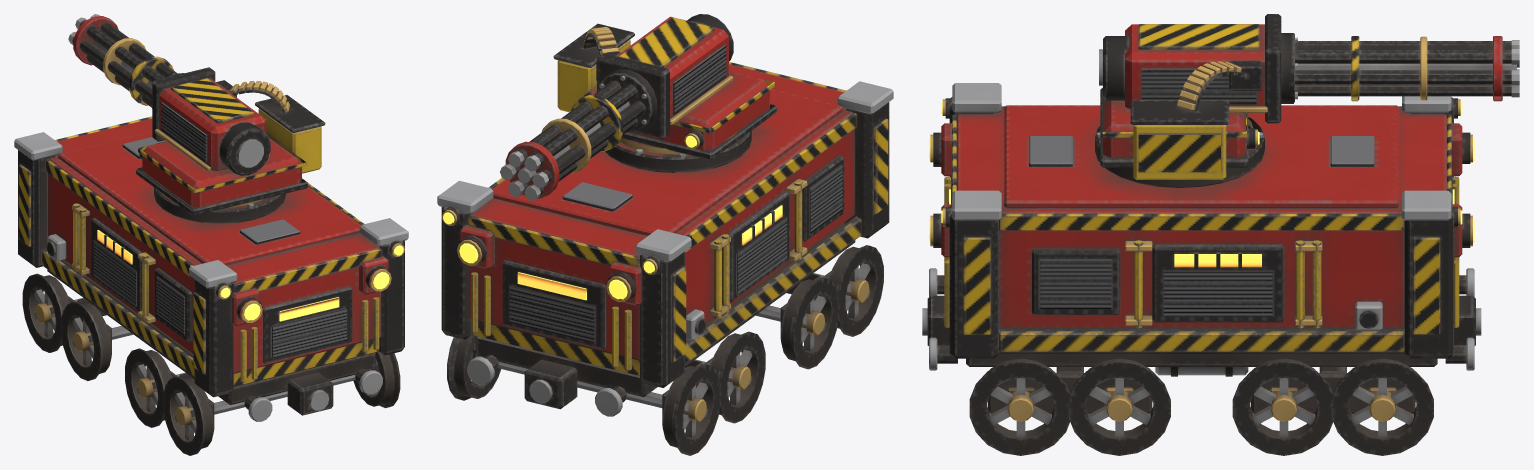
File: SM_DRL_GatlingCar.fbx
3 views of the same model, side by side, from view 1: azimuth 30°, elevation 25°; view 2: azimuth 150°, elevation 25°; view 3: azimuth 270°, elevation 25° (orthographic). The views are drawn at different scales.
Visible parts, largest first — view 1: Body, Turret, Axle_4, Cannon, Axle_2, Axle_3, Axle_1; view 2: Body, Turret, Cannon, Axle_1, Axle_3, Axle_2, Axle_4; view 3: Body, Turret, Cannon, Axle_1, Axle_3, Axle_4, Axle_2.
Boxes of the visible parts, x1,y1,x2,y2 form: Body: (14,116,408,429); Turret: (136,67,325,223); Axle_4: (163,351,400,455); Cannon: (68,14,183,108); Axle_2: (61,301,133,380); Axle_3: (125,348,185,427); Axle_1: (22,273,83,352); Body: (437,62,893,425); Turret: (553,14,777,172); Cannon: (500,69,656,200); Axle_1: (447,335,720,455); Axle_3: (756,277,838,369); Axle_2: (694,331,765,423); Axle_4: (813,245,883,336); Body: (922,83,1481,413); Turret: (1095,14,1281,187); Cannon: (1281,33,1519,103); Axle_1: (1331,358,1433,455); Axle_3: (1068,358,1170,455); Axle_4: (969,358,1072,455); Axle_2: (1232,358,1333,455).
Bounding box in the file's own units: 1.1 × 2.18 × 1.46.
